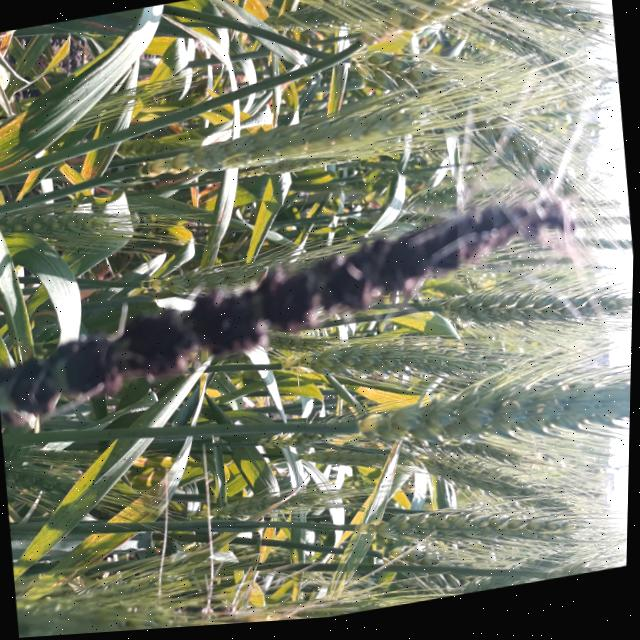loose_charred: (0, 123, 607, 459)
